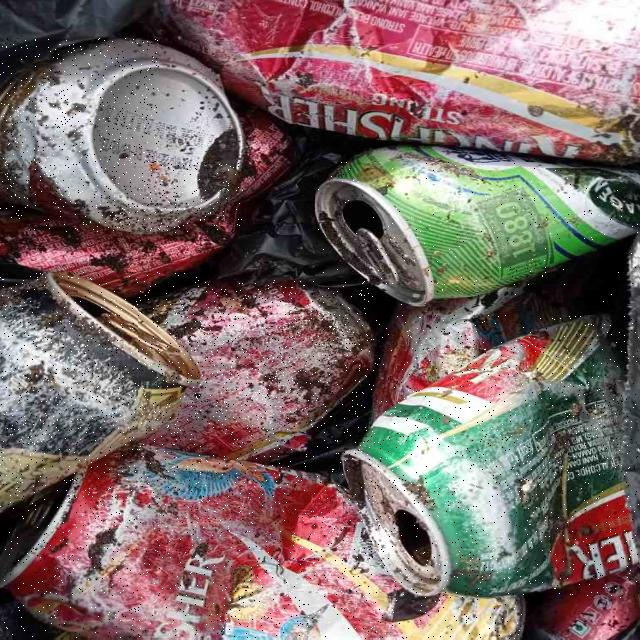metal: (5, 446, 522, 639), (344, 315, 639, 598), (160, 0, 640, 162), (316, 146, 639, 305), (0, 273, 201, 511), (0, 39, 244, 233), (138, 280, 373, 460)
